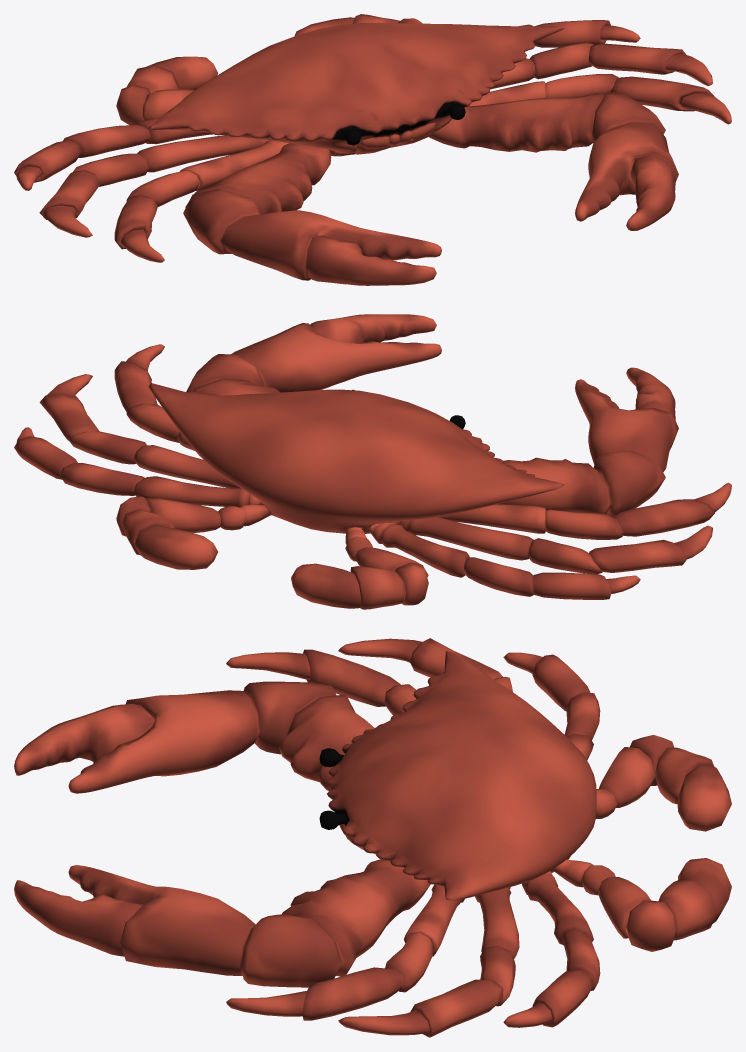
File: Carp.glb
The picture shows the model from 3 angles, top to bottom: view 1: azimuth 30°, elevation 25°; view 2: azimuth 150°, elevation 25°; view 3: azimuth 270°, elevation 25°; orthographic projection. The views are drawn at different scales.
Parts seen in each view (by area): view 1: Carp; view 2: Carp; view 3: Carp.
Part boxes in pixels (<box>): Carp: <box>14,14,731,285</box>; Carp: <box>14,314,731,609</box>; Carp: <box>14,638,731,1037</box>.
Size of the model in its own units: 0.1573 by 0.0258 by 0.1224.
1 material, 1 textured.
